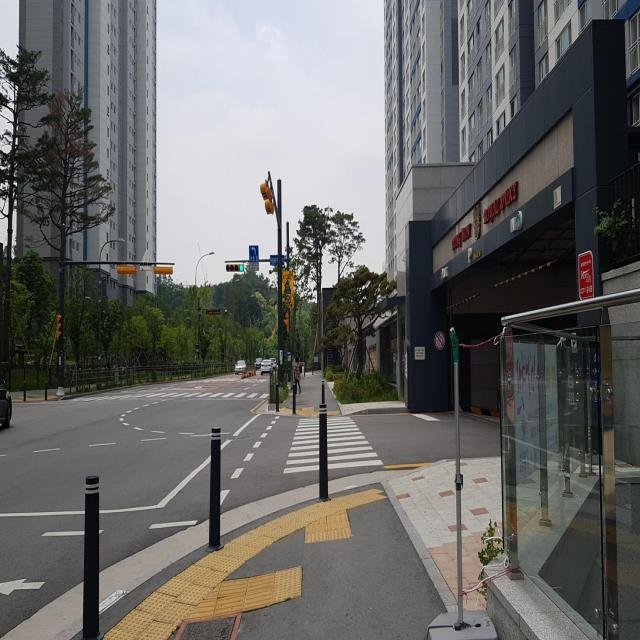횡단보도: (282, 416, 385, 475)
